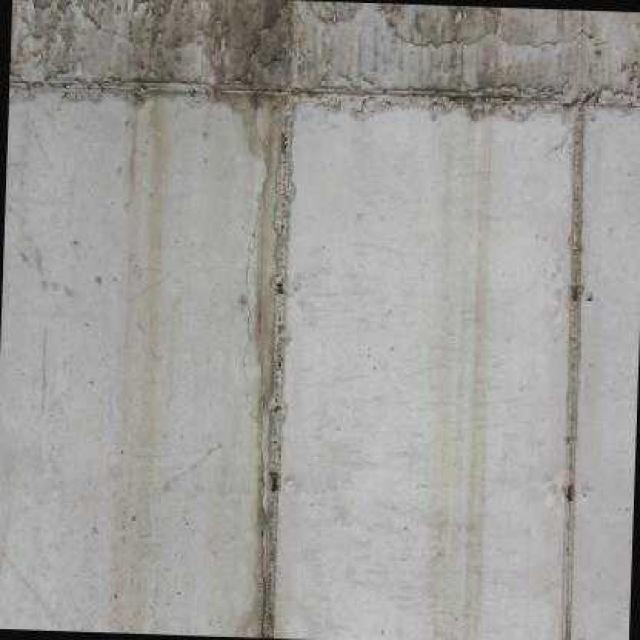D00: (240, 99, 268, 428), (255, 338, 268, 638)
